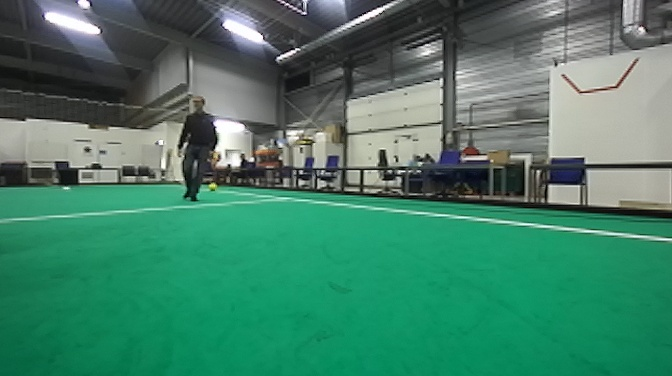ball: (208, 182, 217, 193)
human: (174, 99, 219, 206)
